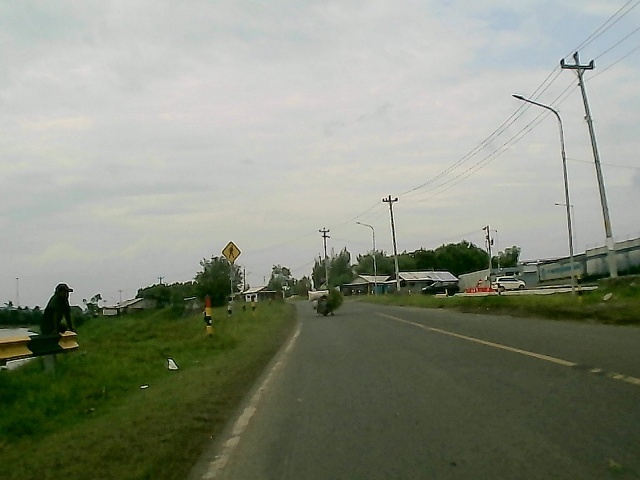Peringatan orang menyeberang: (221, 238, 241, 264)
